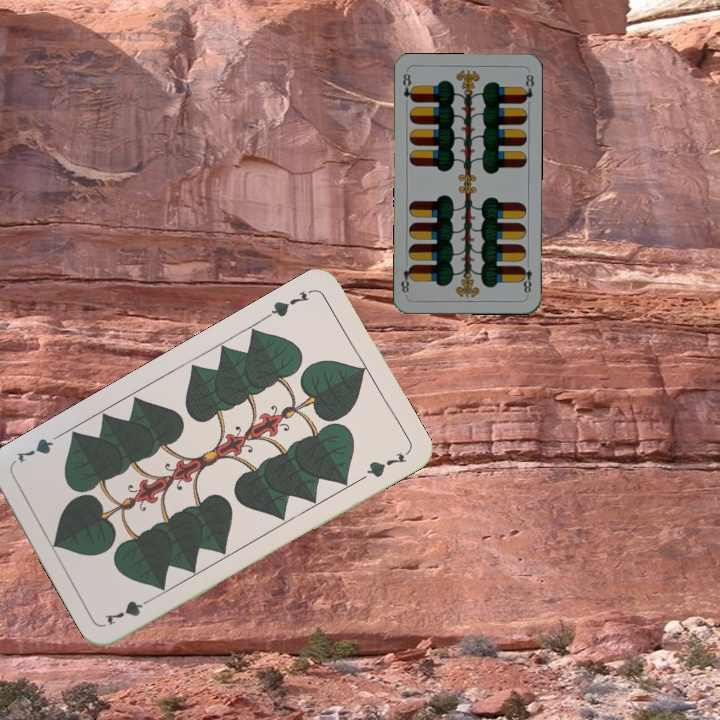E8: (517, 257, 534, 298), (398, 69, 417, 105)
G7: (101, 592, 158, 628), (262, 285, 316, 321)
